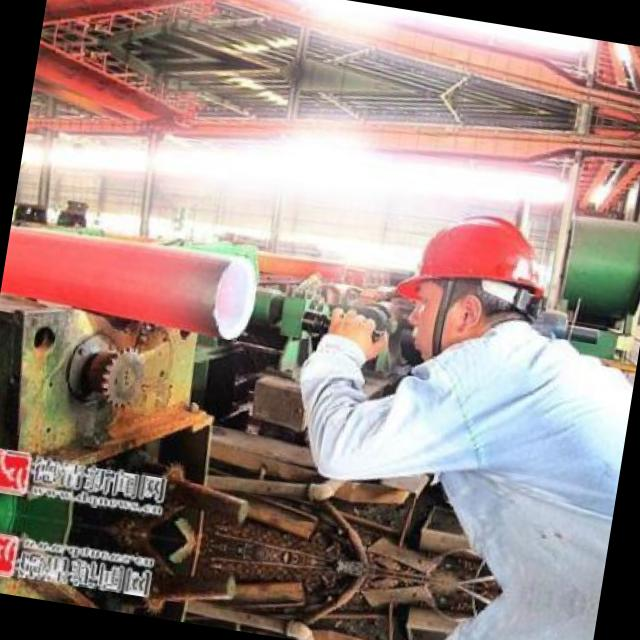helmet: (386, 187, 568, 376)
